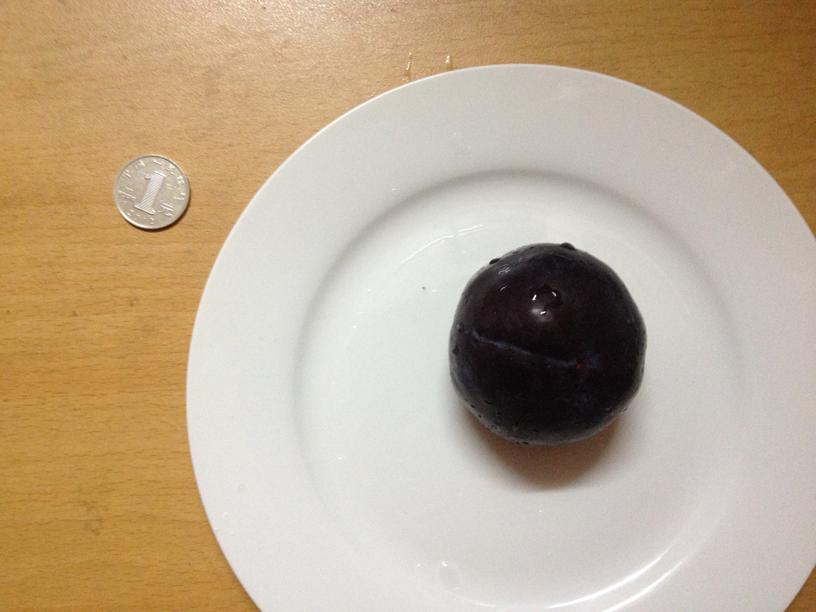coin: (107, 153, 191, 228)
plum: (450, 241, 642, 445)
